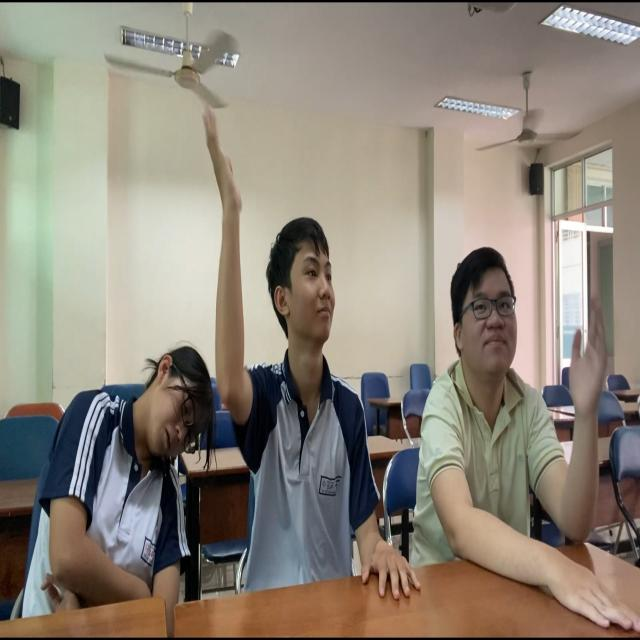raise_hand: (199, 96, 376, 533), (416, 233, 618, 609)
